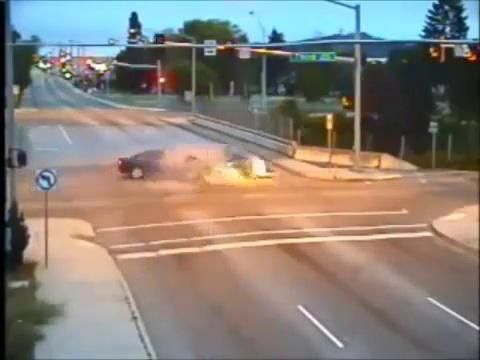car-accident: (116, 142, 272, 190)
